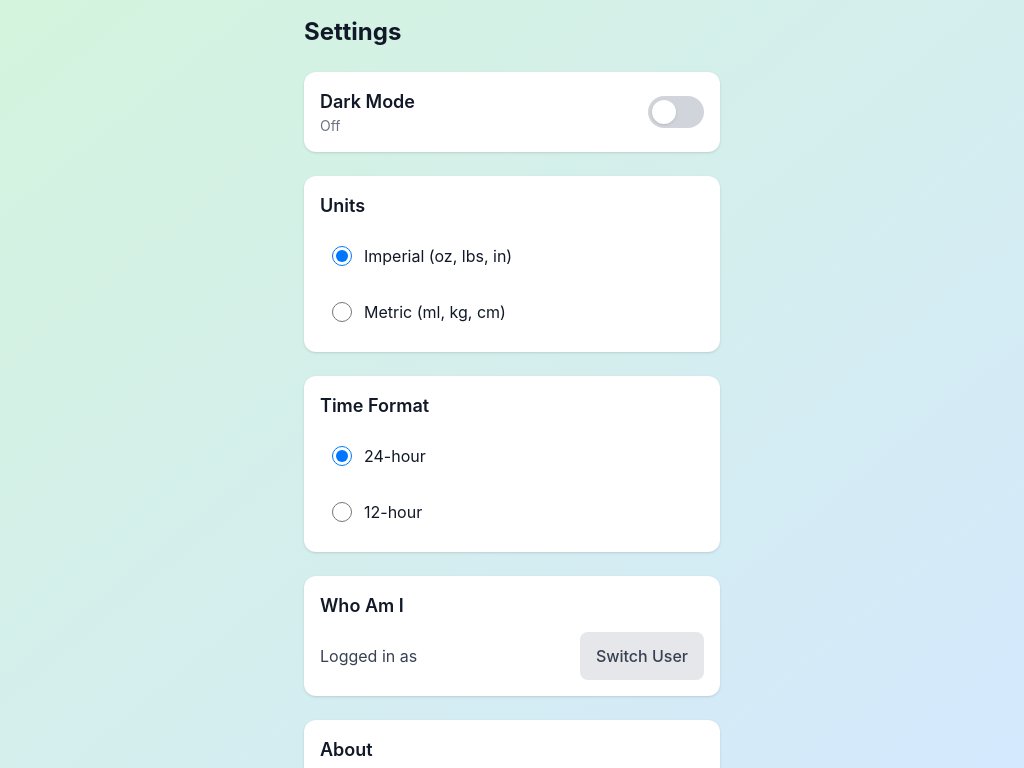
it: Settings — Dark Mode toggle › toggles dark mode on click and updates aria-checked
The width and height of the screenshot is (1024, 768).
Step 1. Click the switch → (676, 112), box [648, 96, 704, 128]
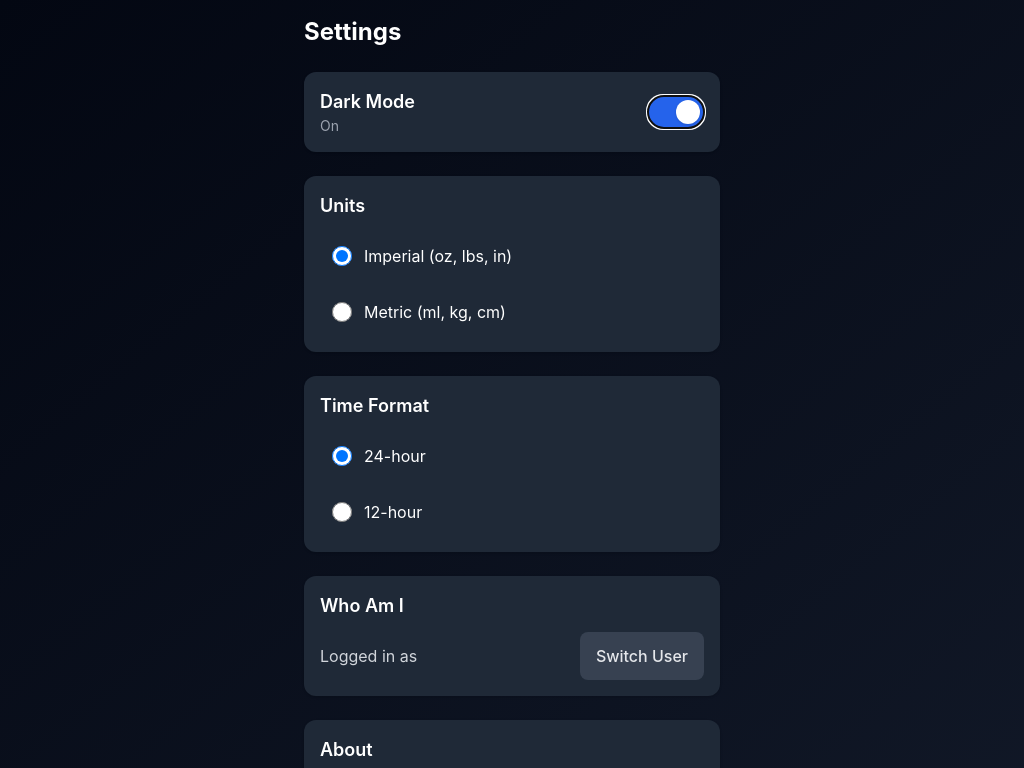
Now the text "On" is shown, box [320, 117, 339, 134]
